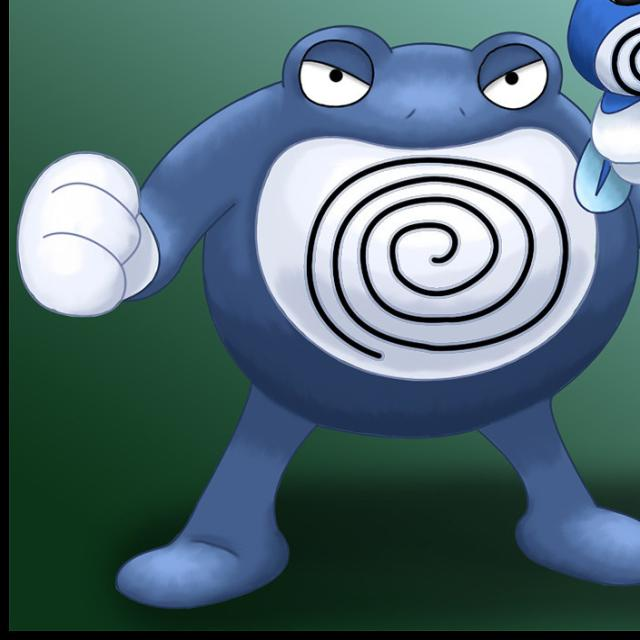Poliwrath: (81, 35, 617, 580)
